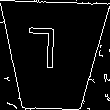L_S: (37, 30, 69, 81)
